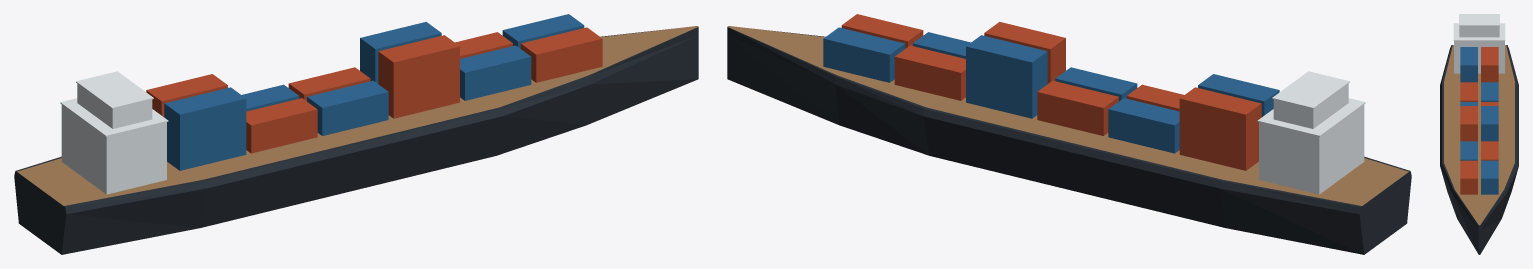
The model's file is barge_lod2.glb.
The picture shows the model from 3 angles, left to right: view 1: azimuth 30°, elevation 25°; view 2: azimuth 150°, elevation 25°; view 3: azimuth 270°, elevation 25°; orthographic projection. The views are drawn at different scales.
Parts seen in each view (by area): view 1: body; view 2: body; view 3: body.
Boxes of the visible parts, x1,y1,x2,y2 form: body: [14, 14, 698, 254]; body: [727, 14, 1411, 254]; body: [1440, 14, 1518, 254].
Size of the model in its own units: 60 by 11.46 by 11.
